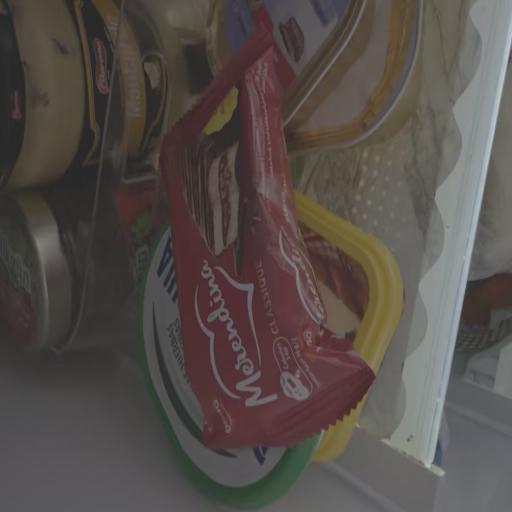merendina: (126, 54, 389, 433)
